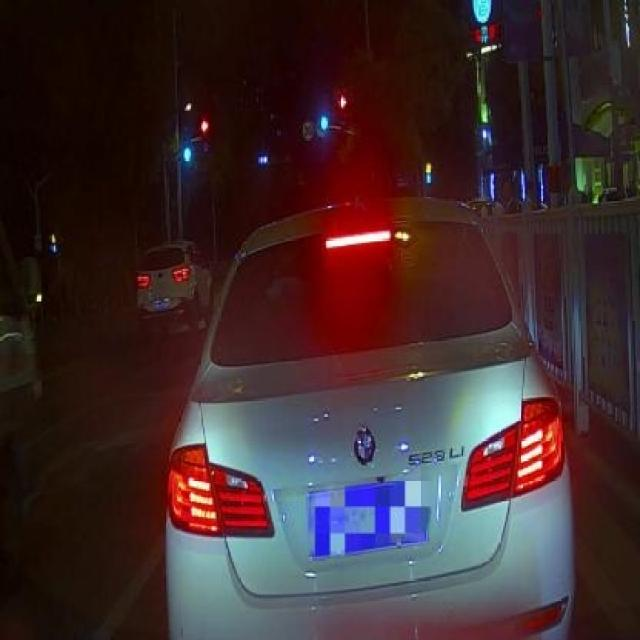forb_speed_over_30: (302, 118, 316, 144)
